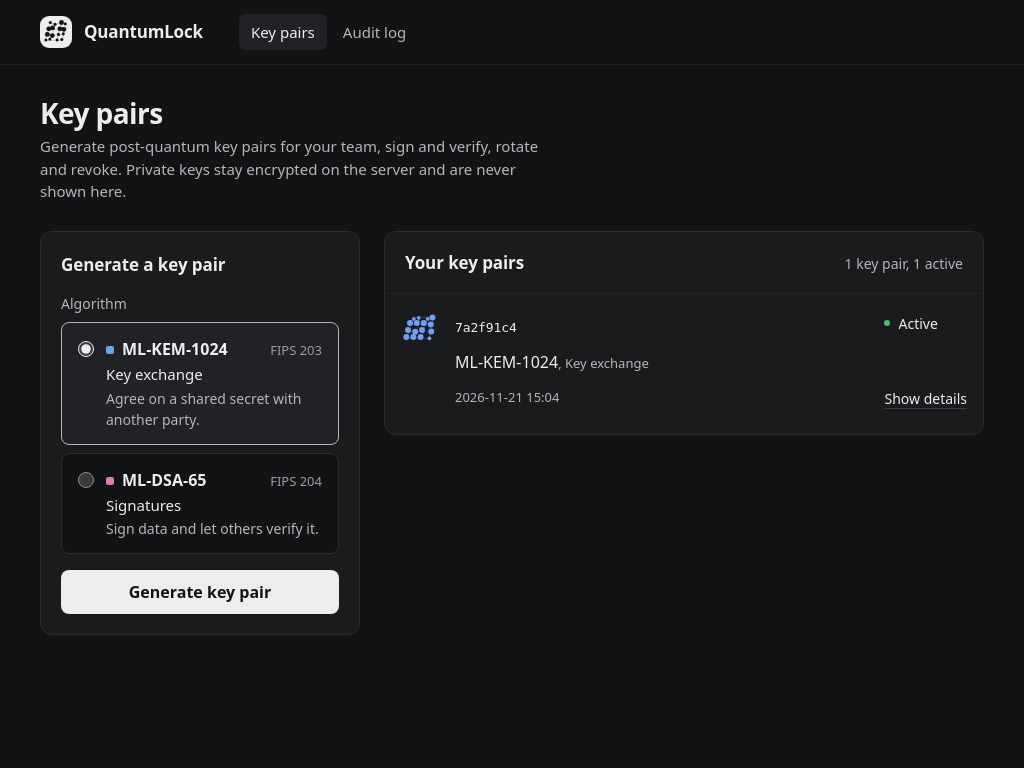
Scenario: Key pairs page › shows the full id and public key on request, never anything private
Expected: the table is shown, [385,293,983,434]
Click the button with aria-label "Show details of 7a2f91c4": (926, 398) [884,376,967,420]
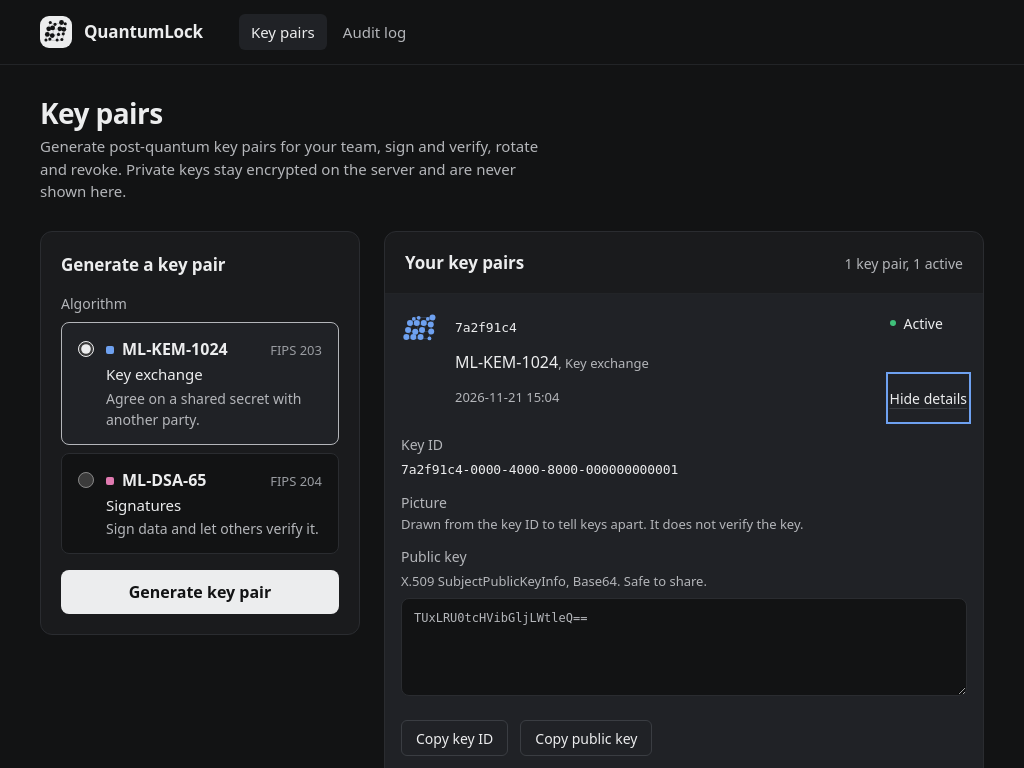
Expected: the text "7a2f91c4-0000-4000-8000-000000000001" is shown, [401,462,678,477]
Expected: the text box named "Public key of 7a2f91c4" holds "TUxLRU0tcHVibGljLWtleQ==", [401,598,967,696]
Expected: the button with aria-label "Hide details of 7a2f91c4" is expanded, [890,376,967,420]
